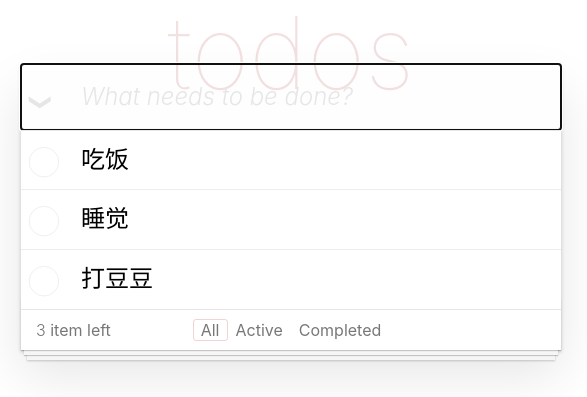
编辑任务 › 修改任务项文本按下 ESC 后，应该取消编辑状态以及任务项文本保持不变
Double-click the label with test id "todo-text" showing "吃饭".
double_click(105, 159)  # box [81,145,129,174]
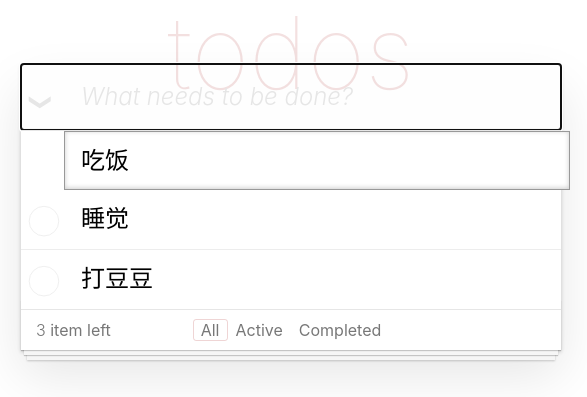
Type "abc" into the field with test id "todo-edit".
click(317, 160); type("abc")  # box [64,131,570,190]
Then press Esc
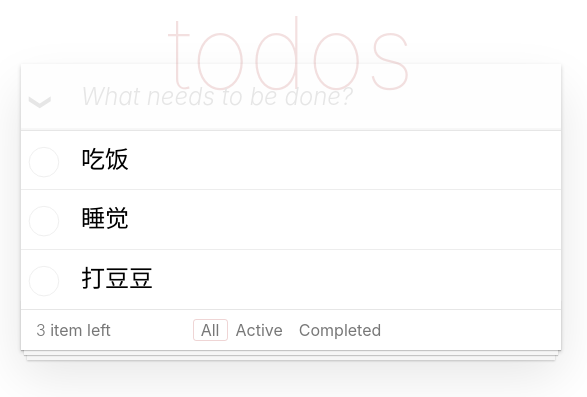
Expected: the text "吃饭" is shown, [81,145,129,174]
